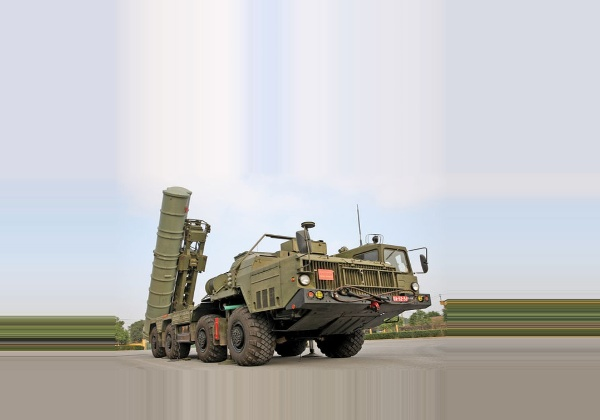plate: (390, 295, 413, 303)
